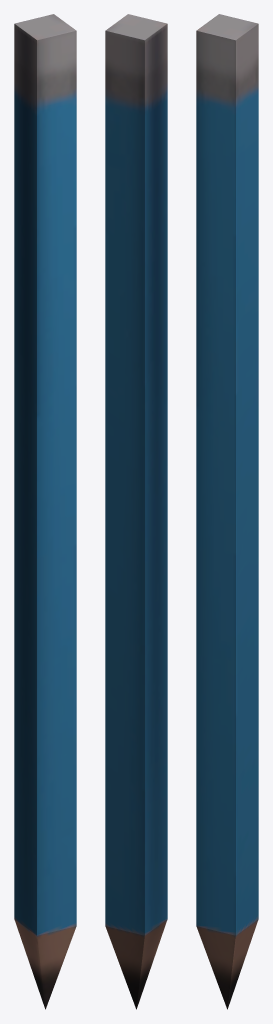
Rendered from SM_Office_Pencil.FBX.
3 views of the same model, side by side, from view 1: azimuth 30°, elevation 25°; view 2: azimuth 150°, elevation 25°; view 3: azimuth 330°, elevation 25° (orthographic).
Visible parts, largest first — view 1: SM_Office_Pencil; view 2: SM_Office_Pencil; view 3: SM_Office_Pencil.
Boxes of the visible parts, left/top/right/bottom form: SM_Office_Pencil: left=14, top=14, right=76, bottom=1009; SM_Office_Pencil: left=105, top=14, right=167, bottom=1009; SM_Office_Pencil: left=196, top=14, right=258, bottom=1009.
Bounding box in the file's own units: 0.8039 × 0.8039 × 19.1.
